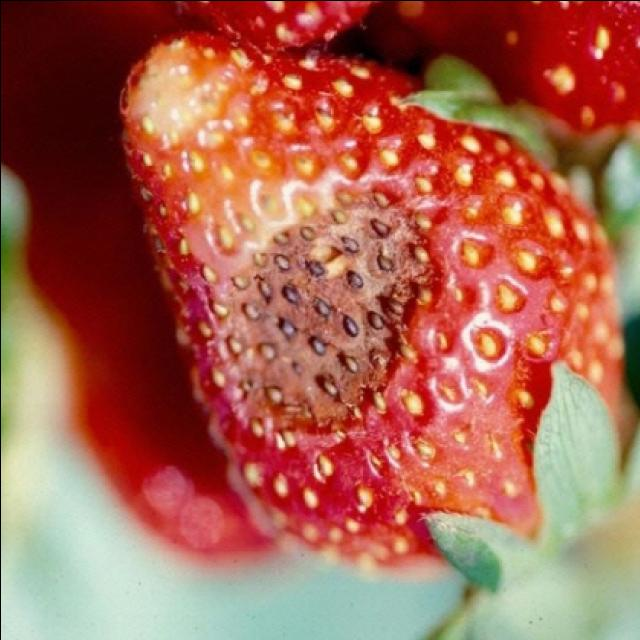Anthracnose Fruit Rot: (250, 224, 406, 402)
